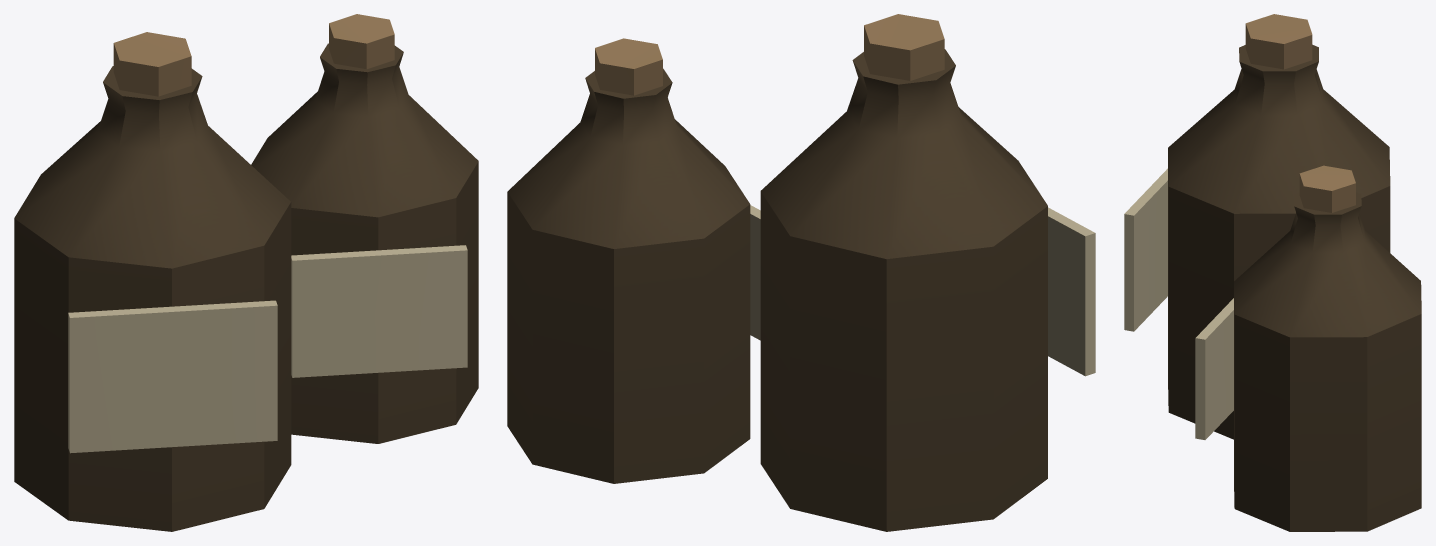
Rendered from ph_item_fever_tincture.glb.
The picture shows the model from 3 angles, left to right: view 1: azimuth 30°, elevation 25°; view 2: azimuth 150°, elevation 25°; view 3: azimuth 270°, elevation 25°; orthographic projection. The views are drawn at different scales.
Visible parts, largest first — view 1: ph_item_fever_tincture; view 2: ph_item_fever_tincture; view 3: ph_item_fever_tincture.
Boxes of the visible parts, box(x1,y1,x2,y2) form: ph_item_fever_tincture: box(14, 14, 478, 531); ph_item_fever_tincture: box(507, 14, 1095, 531); ph_item_fever_tincture: box(1124, 14, 1421, 531).
Size of the model in its own units: 0.1732 by 0.1545 by 0.1116.
